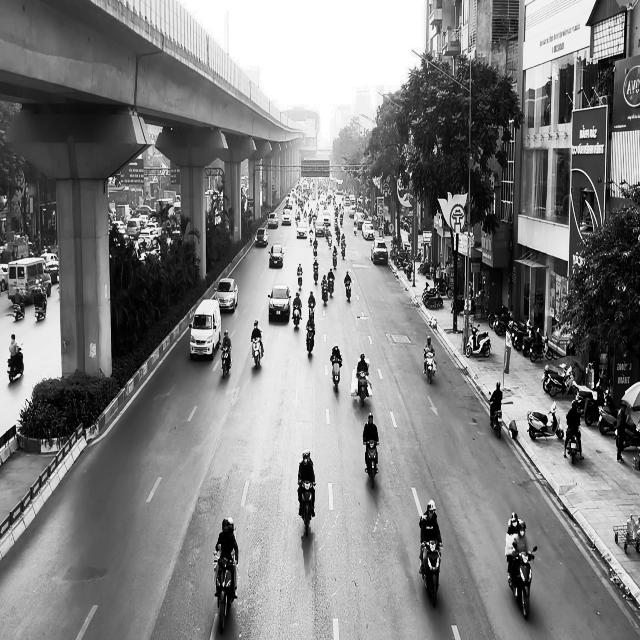car: (268, 284, 292, 322), (214, 278, 238, 312), (372, 239, 388, 265), (269, 244, 284, 267), (255, 227, 269, 246), (296, 221, 308, 238), (282, 208, 292, 225)
motorbike: (508, 545, 538, 620), (213, 549, 239, 633), (419, 540, 443, 607), (527, 401, 564, 440), (298, 479, 316, 536), (466, 322, 492, 358), (564, 424, 582, 465), (364, 439, 379, 488), (488, 392, 503, 438), (7, 343, 24, 382), (423, 350, 437, 384), (220, 342, 232, 378), (331, 356, 343, 391), (252, 334, 264, 368), (34, 293, 47, 321), (12, 295, 25, 321), (306, 326, 315, 354), (292, 304, 302, 328), (344, 280, 352, 302), (322, 284, 328, 306), (328, 278, 334, 296), (297, 272, 303, 289), (332, 252, 338, 268)
